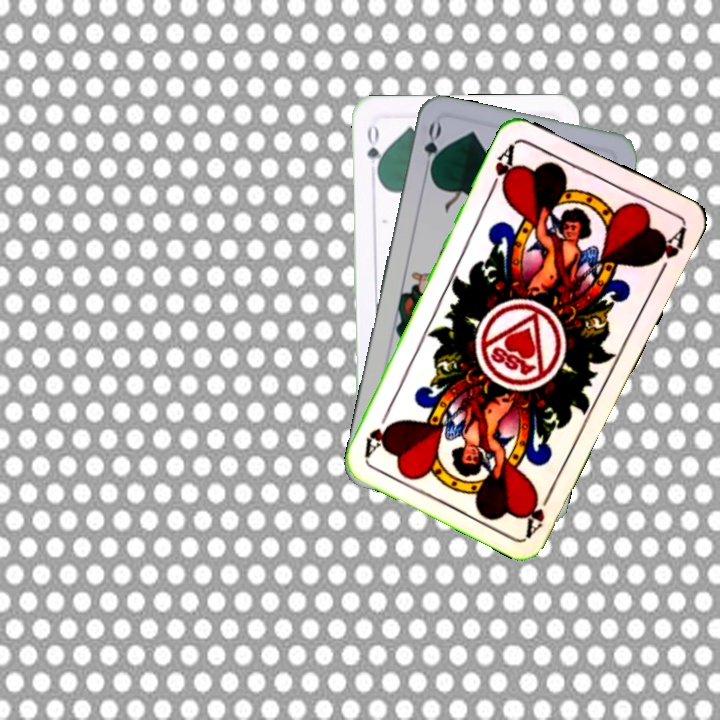GO: (420, 119, 444, 179), (362, 121, 386, 179)
HA: (520, 482, 557, 538), (485, 139, 519, 197)
